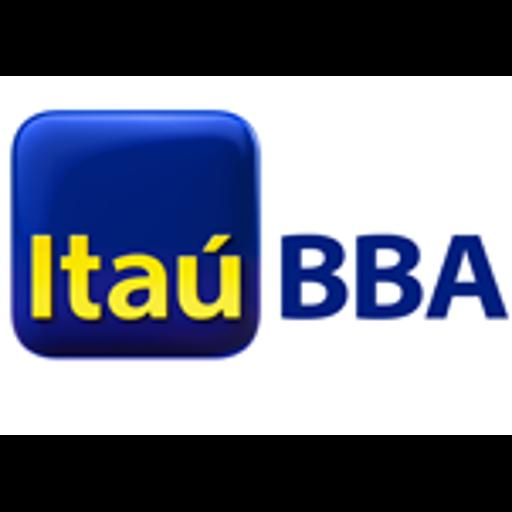Itau Unibanco S-A: (0, 76, 512, 435)
